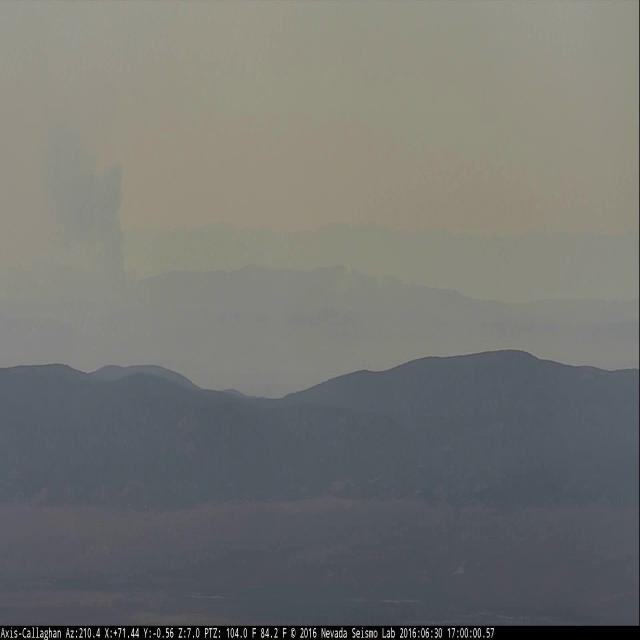smoke: (41, 132, 136, 320)
